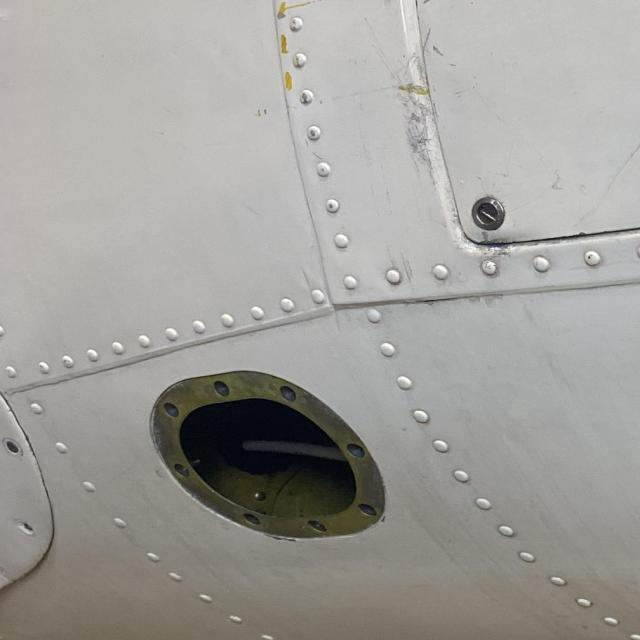Fastener Damage: (18, 517, 38, 541)
